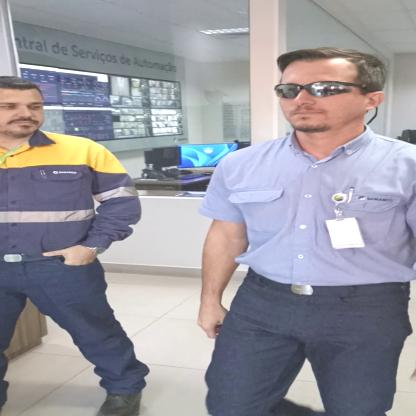Operacional: (0, 130, 140, 259)
